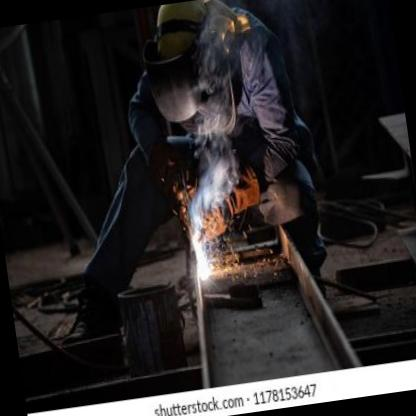Gloves: (192, 160, 266, 240), (146, 134, 199, 204)
